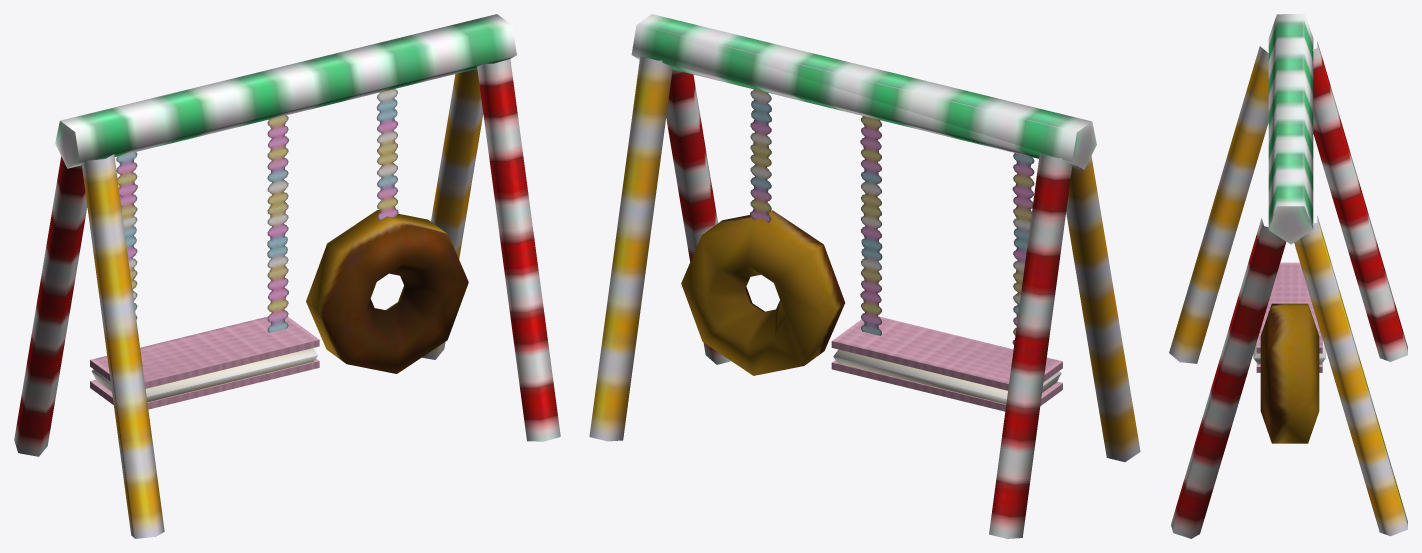
File: candySwingSet.glb
The picture shows the model from 3 angles, left to right: view 1: azimuth 30°, elevation 25°; view 2: azimuth 150°, elevation 25°; view 3: azimuth 270°, elevation 25°; orthographic projection. The views are drawn at different scales.
Visible parts, largest first — view 1: pCylinder1 (×2), topBar, dougnut, pCylinder2 (×2), topCookie, candyNecklace1__billboard, cream, candyNecklace3__billboard, candyNecklace2__billboard, bottomCookie; view 2: pCylinder2 (×2), topBar, dougnut, pCylinder1 (×2), topCookie, candyNecklace1__billboard, cream, candyNecklace3__billboard, candyNecklace2__billboard, bottomCookie; view 3: pCylinder1 (×2), pCylinder2 (×2), topBar, dougnut, topCookie.
Part boxes in pixels (x1,y1,x2,y2): pCylinder1 (×2): [81, 59, 560, 538]; topBar: [55, 14, 516, 168]; dougnut: [306, 210, 468, 373]; pCylinder2 (×2): [14, 69, 483, 456]; topCookie: [90, 316, 319, 388]; candyNecklace1__billboard: [267, 115, 288, 332]; cream: [91, 348, 317, 402]; candyNecklace3__billboard: [376, 89, 398, 220]; candyNecklace2__billboard: [116, 152, 137, 319]; bottomCookie: [90, 358, 319, 409]; pCylinder2 (×2): [589, 56, 1072, 538]; topBar: [631, 14, 1096, 169]; dougnut: [681, 210, 845, 375]; pCylinder1 (×2): [666, 69, 1140, 462]; topCookie: [831, 316, 1062, 390]; candyNecklace1__billboard: [860, 116, 882, 335]; cream: [833, 349, 1061, 404]; candyNecklace3__billboard: [750, 89, 771, 222]; candyNecklace2__billboard: [1012, 153, 1034, 344]; bottomCookie: [831, 360, 1062, 411]; pCylinder1 (×2): [1169, 46, 1286, 538]; pCylinder2 (×2): [1294, 41, 1407, 536]; topBar: [1268, 14, 1313, 244]; dougnut: [1260, 303, 1319, 443]; topCookie: [1256, 262, 1322, 353].
Size of the model in its own units: 9.19 by 7.52 by 4.83.
Materials: 6 (6 with a texture image).
